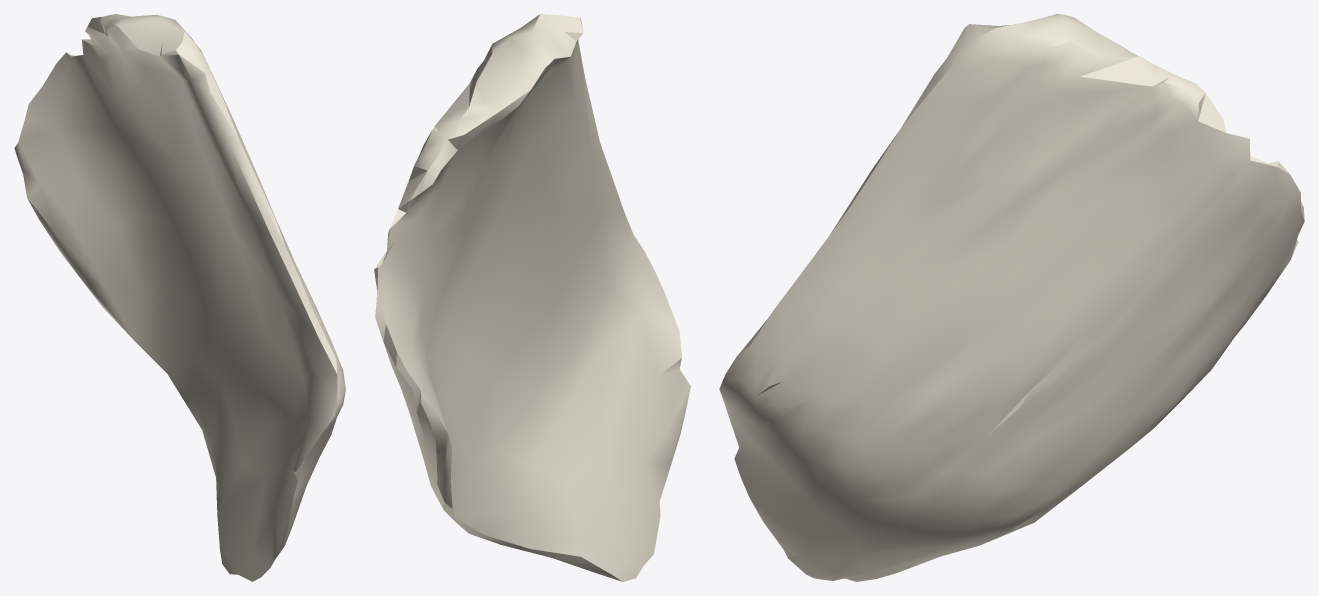
The model's file is fma321705-r_mm1494m.glb.
3 views of the same model, side by side, from view 1: azimuth 30°, elevation 25°; view 2: azimuth 150°, elevation 25°; view 3: azimuth 270°, elevation 25° (orthographic). The views are drawn at different scales.
Visible parts, largest first — view 1: FMA321705-R_MM1494M; view 2: FMA321705-R_MM1494M; view 3: FMA321705-R_MM1494M.
Part boxes in pixels (left/top/right/bottom): FMA321705-R_MM1494M: left=14, top=14, right=345, bottom=581; FMA321705-R_MM1494M: left=374, top=14, right=690, bottom=581; FMA321705-R_MM1494M: left=719, top=14, right=1304, bottom=581.
Bounding box in the file's own units: 0.00221 × 0.00891 × 0.00837.
